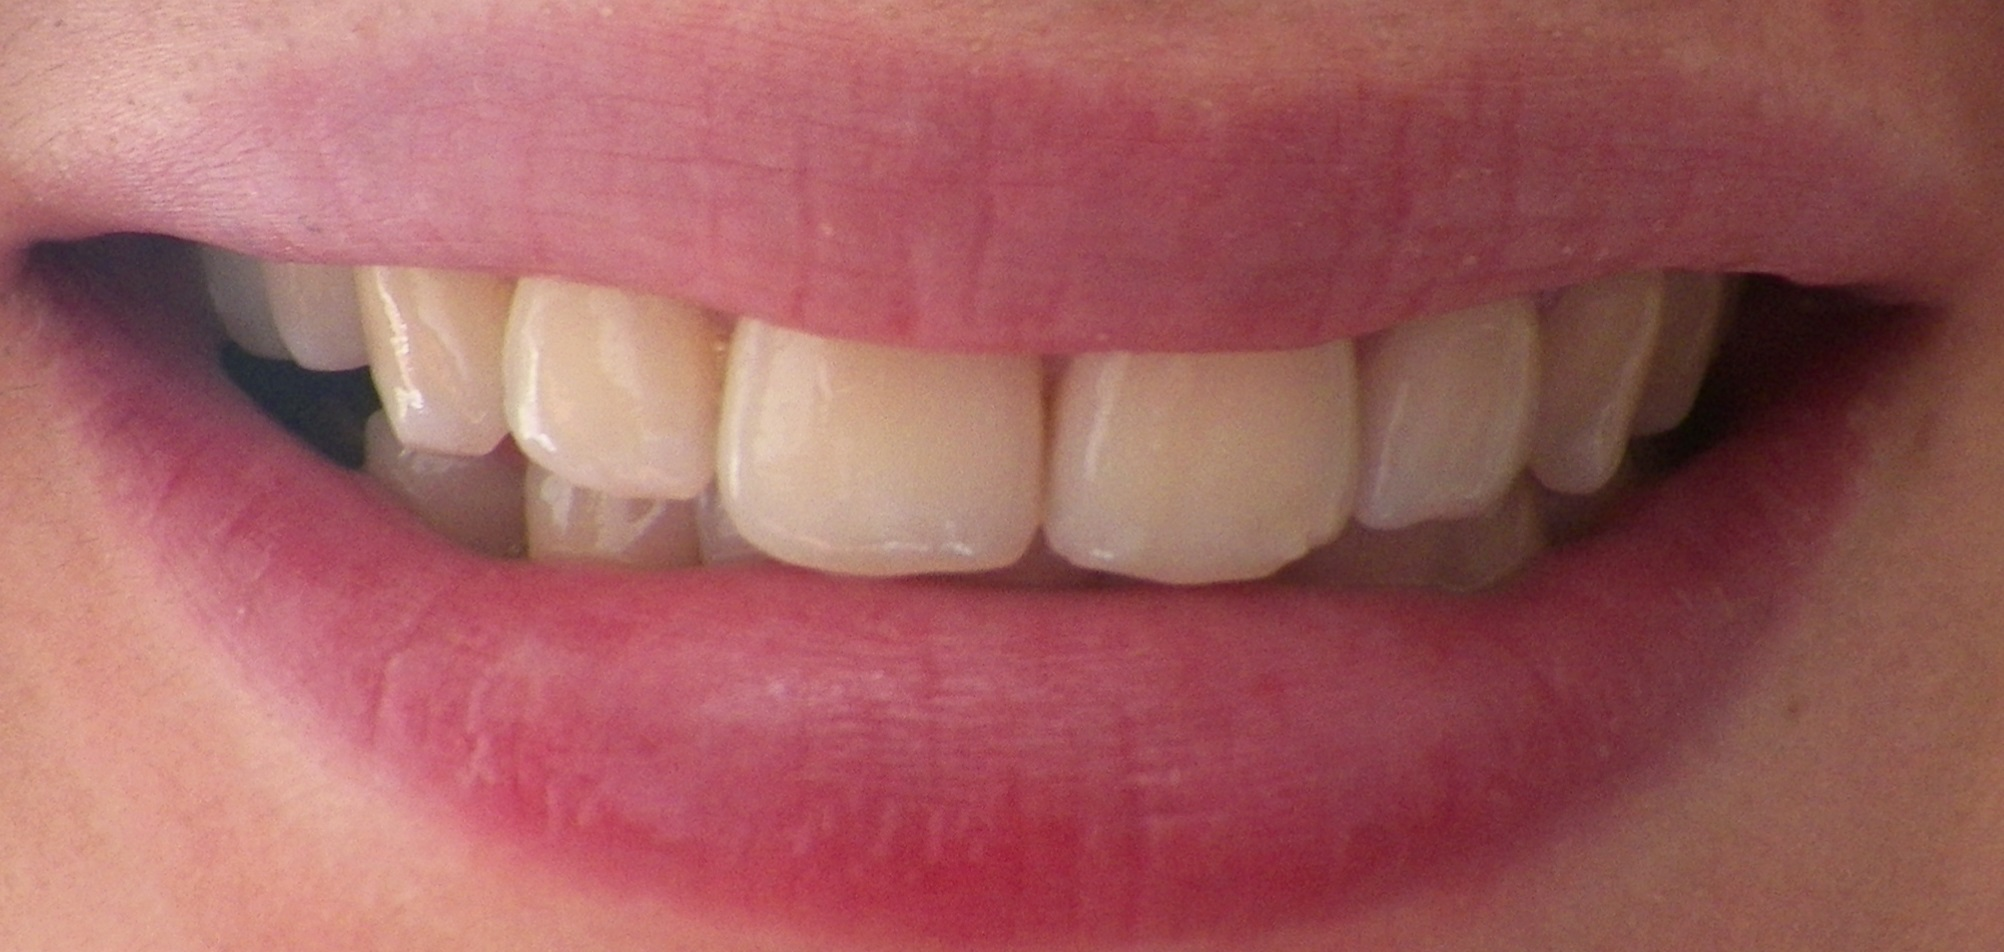boca: (199, 242, 1755, 606)
